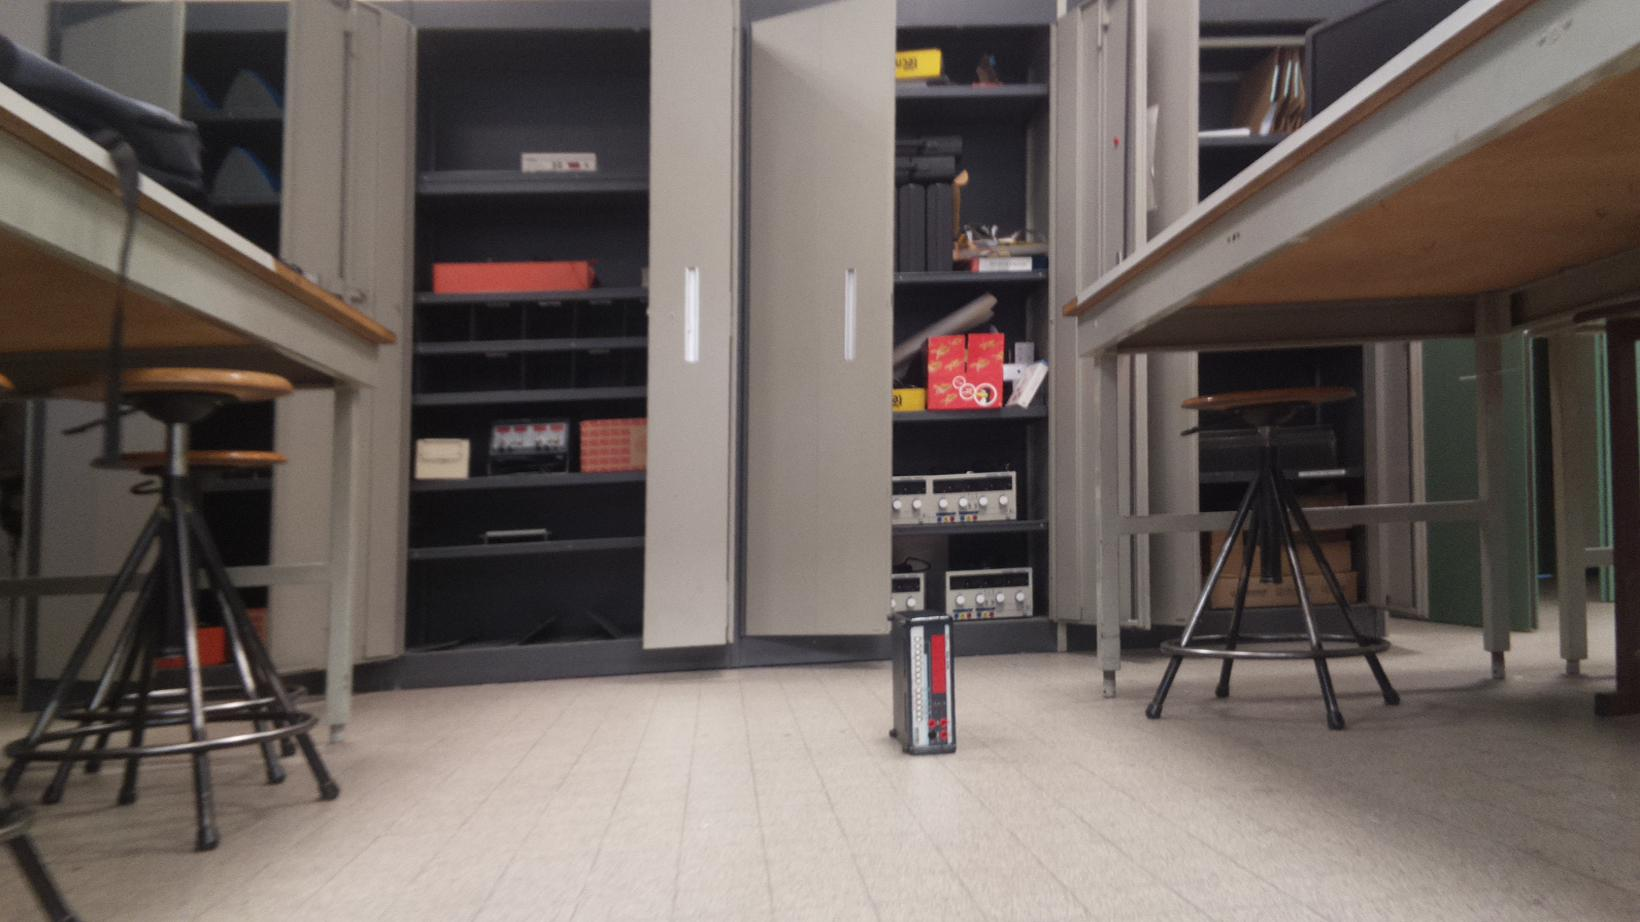medium: (886, 608, 960, 757)
